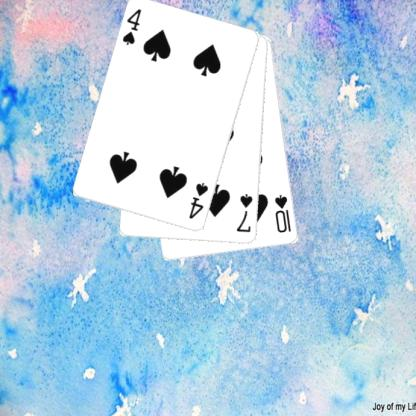10S: (272, 192, 293, 234)
4S: (186, 180, 210, 221), (120, 7, 143, 47)
7S: (234, 192, 254, 234)
